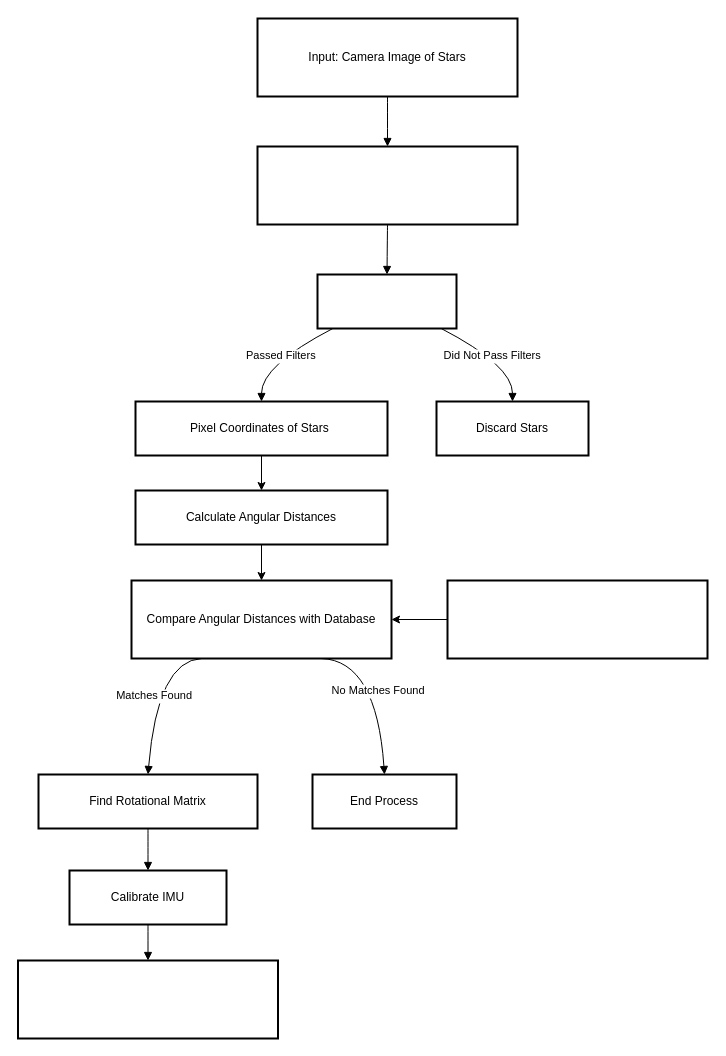
Some shapes in this 726 by 1056 pixel diagram are drawn without their labels. Here are the shapes that lost their labels. From the top down, the centre of each, then its label:
the point at 387,185: Feature Extraction Algorithm
the point at 386,301: Potential Stars
the point at 577,619: Database with Catalog information
the point at 147,999: Server and Hardware Output
